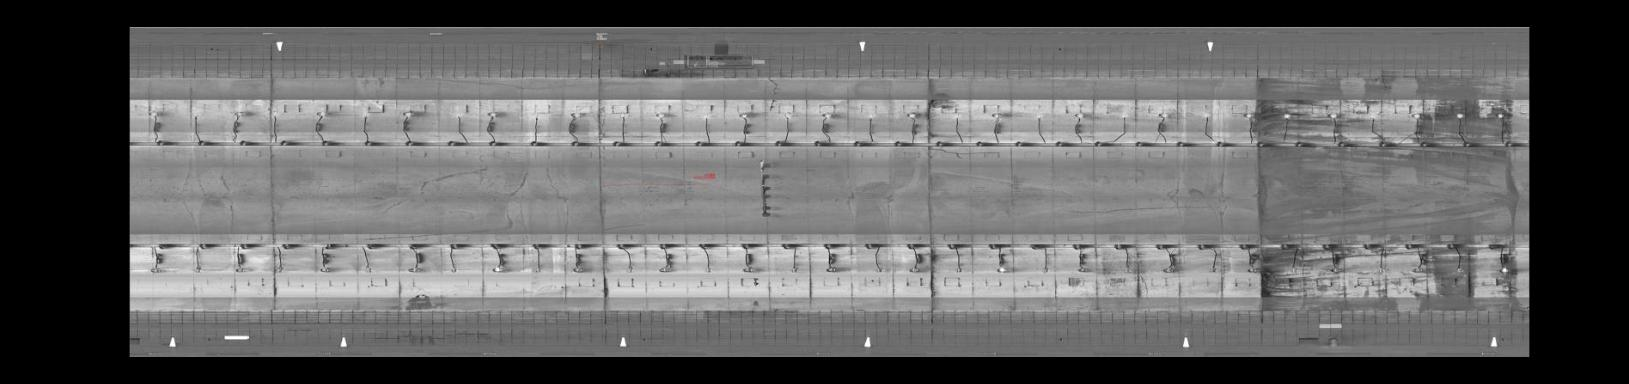light: (1406, 107, 1424, 122), (658, 263, 677, 277), (310, 106, 327, 121), (397, 106, 413, 120), (526, 109, 543, 122), (1152, 109, 1171, 121), (1244, 264, 1262, 276), (483, 107, 499, 121), (1325, 265, 1344, 276), (701, 264, 718, 277), (1493, 264, 1511, 276), (737, 265, 757, 275), (1323, 110, 1341, 121), (488, 264, 507, 275), (229, 107, 244, 120), (1365, 109, 1381, 122), (624, 263, 640, 276), (1073, 264, 1090, 276), (648, 109, 668, 119), (613, 110, 631, 121), (1196, 108, 1213, 119), (1161, 265, 1179, 276), (786, 265, 804, 276), (1073, 108, 1088, 121), (1452, 108, 1467, 121), (902, 110, 920, 120), (1448, 265, 1469, 274), (1409, 264, 1427, 274), (951, 264, 966, 276), (563, 109, 580, 120), (146, 265, 163, 276), (733, 110, 751, 120), (445, 264, 462, 274), (267, 109, 281, 122), (272, 263, 286, 276), (356, 108, 371, 120), (696, 110, 711, 122), (1372, 265, 1388, 276), (405, 265, 422, 275), (231, 265, 247, 275), (1121, 265, 1134, 277), (449, 109, 463, 120), (949, 109, 963, 120), (1240, 110, 1255, 121), (1493, 110, 1507, 121), (190, 265, 205, 276), (359, 265, 377, 274), (1038, 265, 1053, 275), (317, 265, 332, 275), (189, 109, 202, 121), (817, 111, 835, 119), (1205, 266, 1222, 275), (822, 265, 838, 274), (530, 265, 546, 274), (1287, 265, 1301, 276), (994, 265, 1009, 275), (1031, 112, 1046, 121), (569, 265, 585, 274), (145, 109, 159, 119), (1116, 110, 1129, 120), (1277, 112, 1293, 120), (906, 265, 920, 274), (872, 267, 886, 276), (781, 109, 792, 120), (989, 110, 1003, 118), (863, 112, 875, 121)
